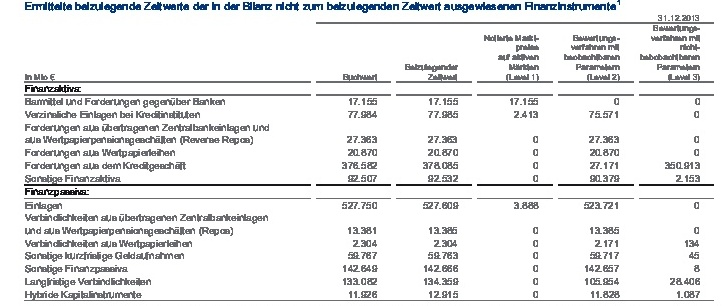table: (0, 0, 727, 306)
